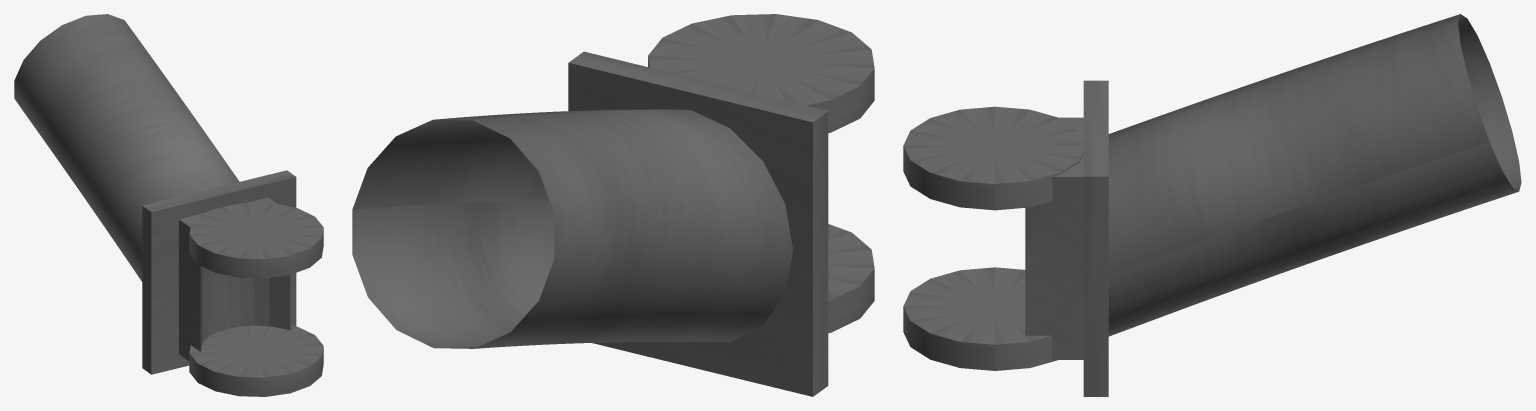
Rendered from mastarmcurve_10x2_c0_thin.obj.
3 renders of one model, left to right at view 1: azimuth 30°, elevation 25°; view 2: azimuth 150°, elevation 25°; view 3: azimuth 270°, elevation 25°, orthographic. The views are drawn at different scales.
Parts seen in each view (by area): view 1: mastarm_10x2_c0_thin; view 2: mastarm_10x2_c0_thin; view 3: mastarm_10x2_c0_thin.
Part boxes in pixels (box(x1,y1,x2,y2)): mastarm_10x2_c0_thin: box(14, 14, 323, 396); mastarm_10x2_c0_thin: box(352, 14, 874, 396); mastarm_10x2_c0_thin: box(903, 14, 1521, 396).
Size of the model in its own units: 0.6875 by 1.09 by 1.87.
